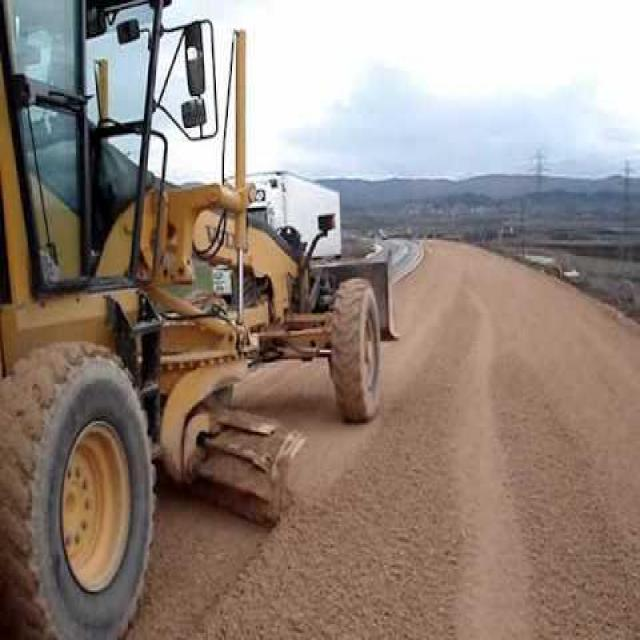Grader: (4, 6, 416, 638)
